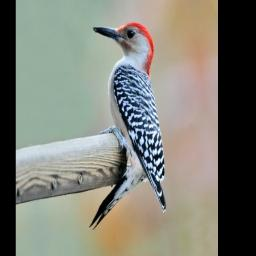Woodpecker: (62, 5, 180, 246)
